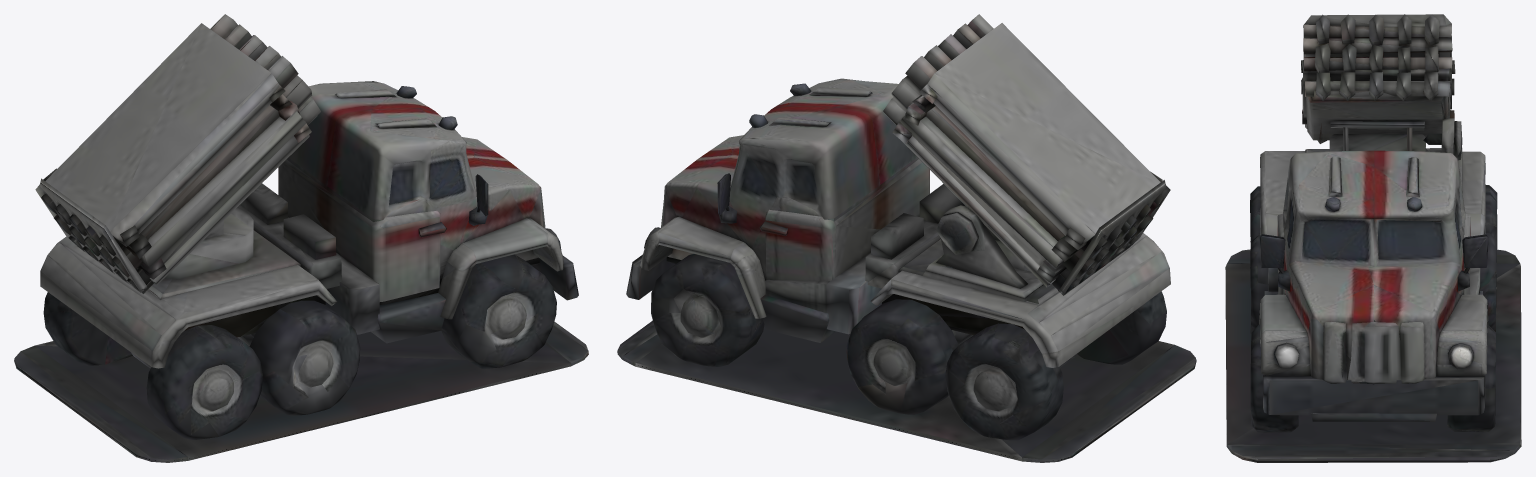
The model's file is rocket_truck.glb.
3 renders of one model, left to right at view 1: azimuth 30°, elevation 25°; view 2: azimuth 150°, elevation 25°; view 3: azimuth 270°, elevation 25°, orthographic. The views are drawn at different scales.
Parts seen in each view (by area): view 1: hull, turret; view 2: hull, turret; view 3: hull, turret.
Part boxes in pixels (x1=…): hull: x1=14, y1=81, x2=588, y2=462; turret: x1=35, y1=14, x2=320, y2=293; hull: x1=617, y1=78, x2=1196, y2=462; turret: x1=883, y1=14, x2=1170, y2=295; hull: x1=1225, y1=48, x2=1521, y2=462; turret: x1=1301, y1=14, x2=1462, y2=160.
Bounding box in the file's own units: 1 × 0.7079 × 0.5853.
1 material, 1 textured.
